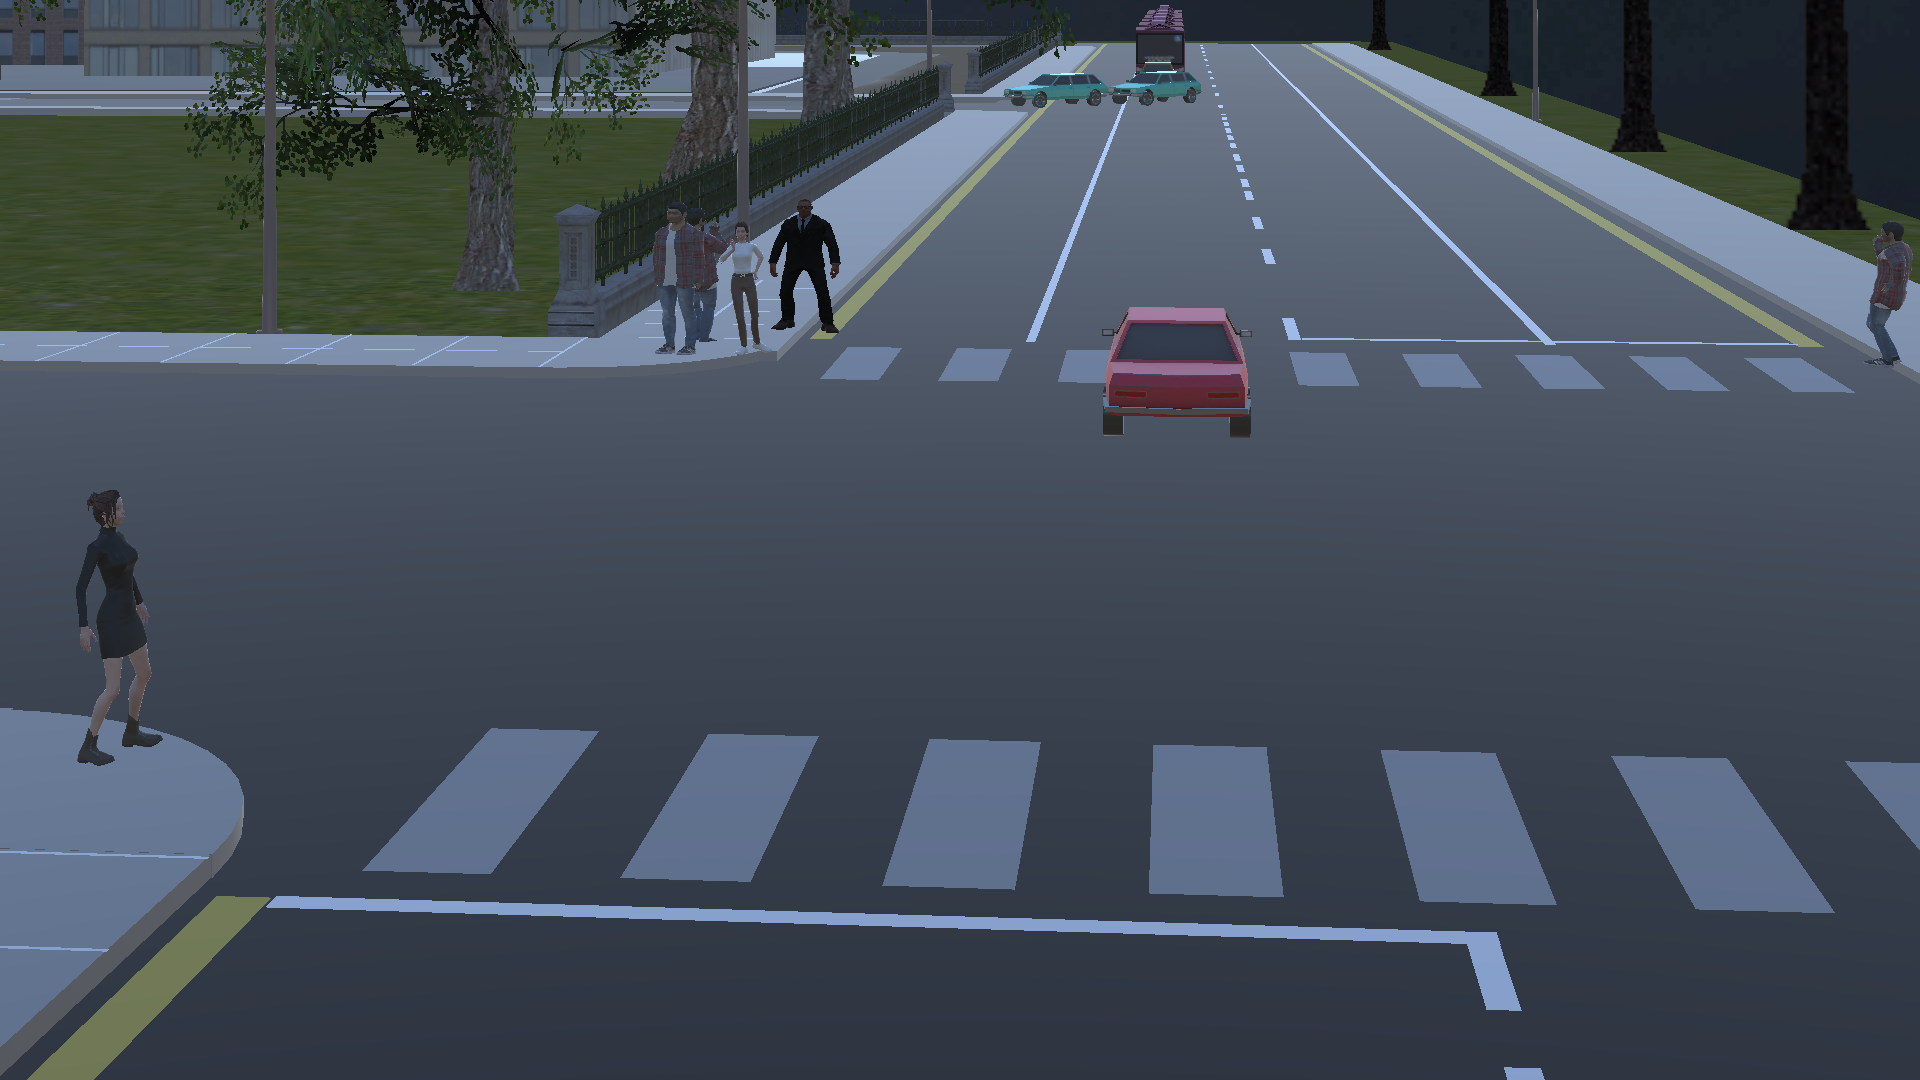pedestrian: (59, 475, 169, 787), (779, 192, 854, 355), (640, 202, 701, 364), (1853, 210, 1908, 374), (724, 213, 772, 354)
